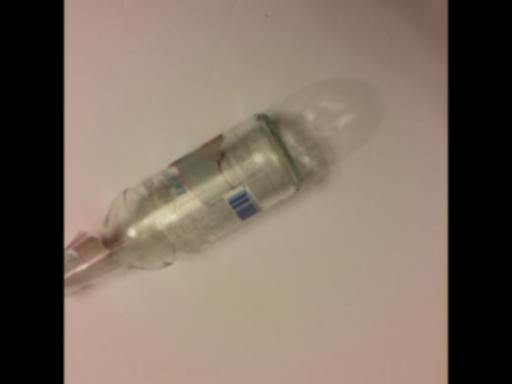glass: (65, 76, 387, 305)
sodocalcique: (65, 76, 387, 305)
